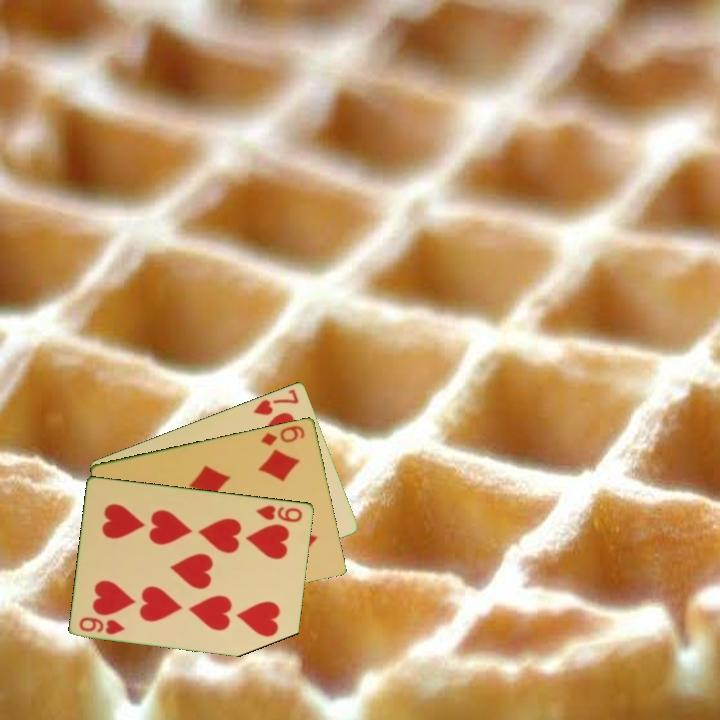6d: (258, 421, 308, 448)
7h: (250, 385, 302, 418)
9h: (253, 501, 306, 525), (76, 613, 128, 637)
